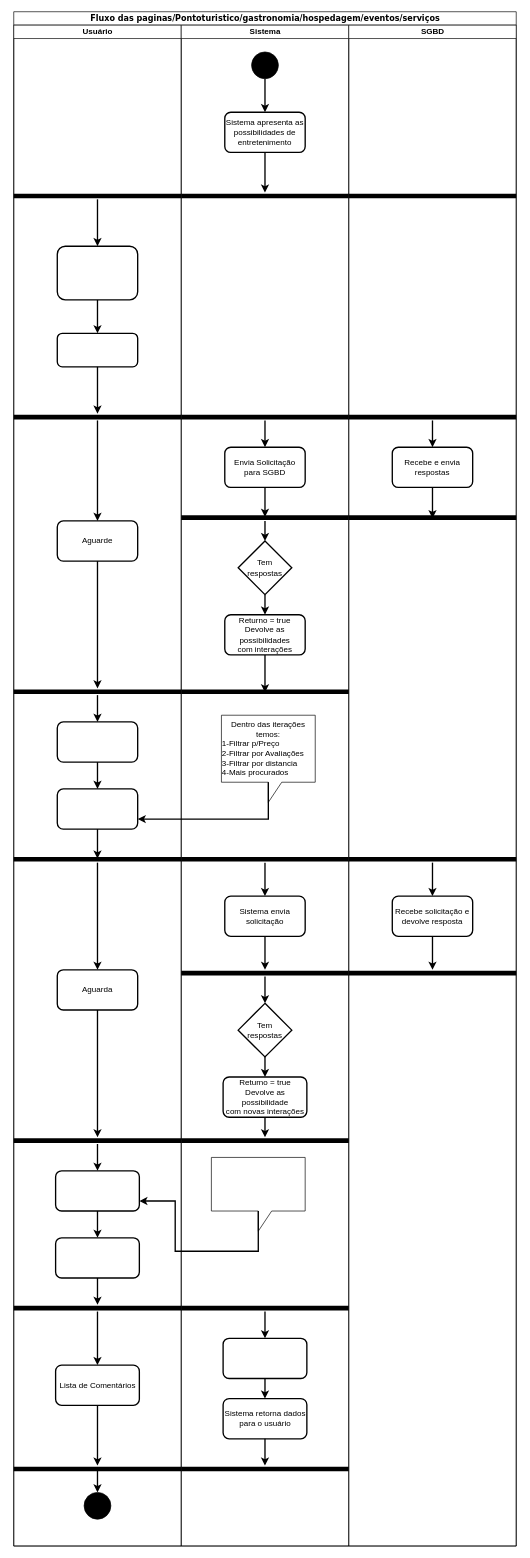
Some shapes in this 530 by 1558 pixel diagram are drawn without their labels. Here are the shapes that lost their labels. From the top down, the centre of each, then its label:
At (97,272): "1-Pontos turísticos 2-Hospedagem 3-Gastronomia 4-Eventos 5-Serviços".
At (97,349): "Usuário clica em um entretenimento".
At (97,741): "Lista de possibilidades e Iteraçês".
At (97,808): "Usuário Clica em uma possibilidade".
At (97,1190): "Possibilidade Novas interações".
At (258,1194): "Dentro das interações temos: 1- Comentários 2-Comentar 3-Avaliar".
At (97,1257): "Usuário clica em avaliações".
At (264,1358): "Sistema já está com as avaliações disponível".
